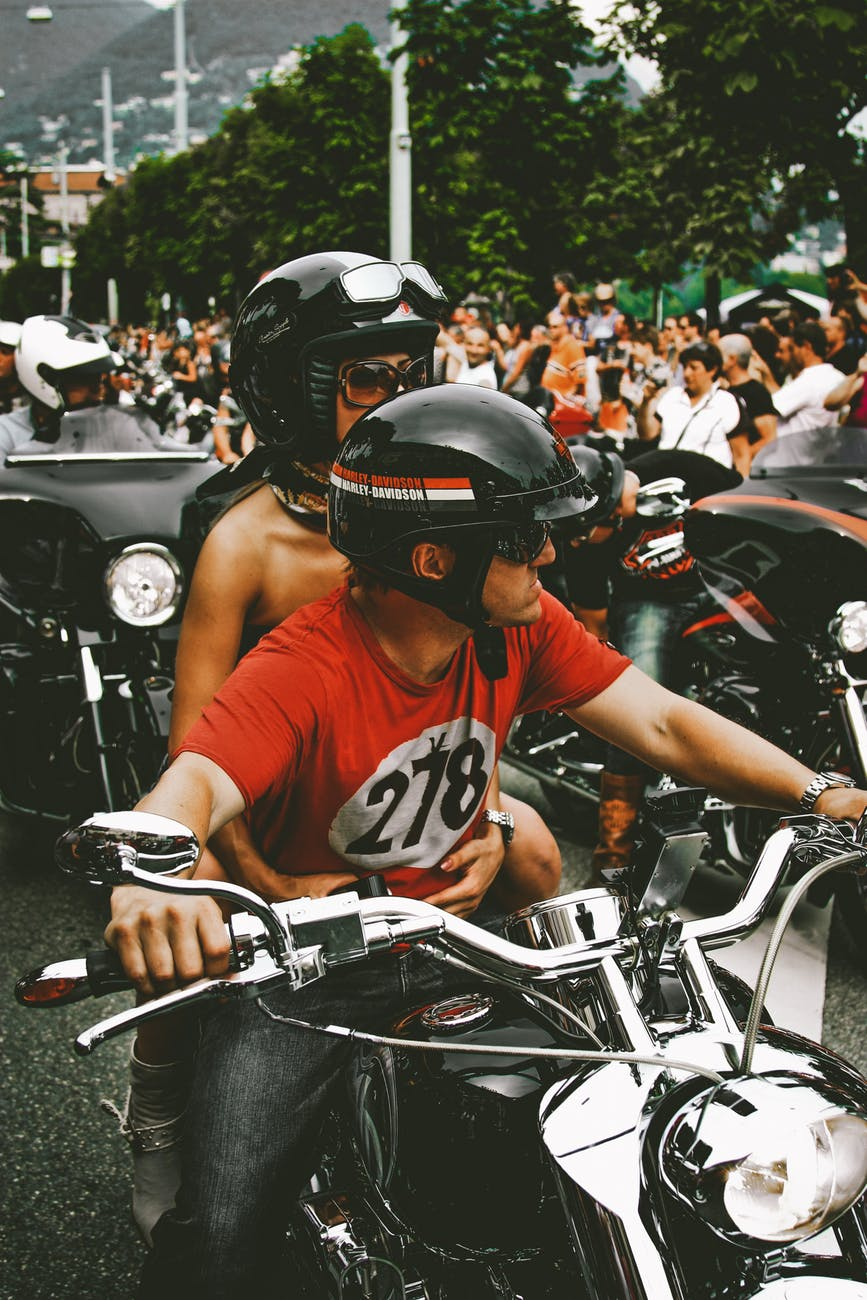helmet: (320, 393, 588, 547), (224, 265, 468, 383)
